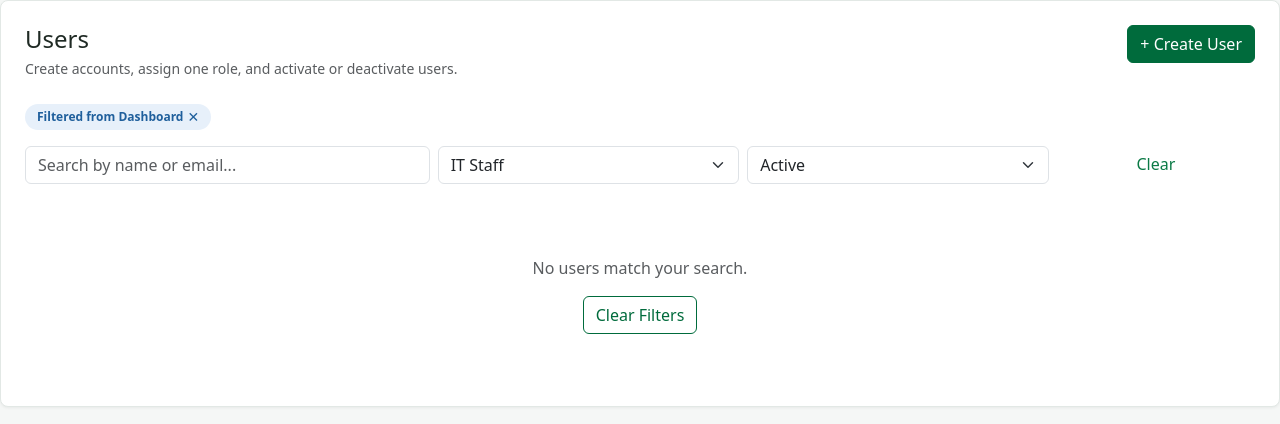
Drill-down filters (UI-05) › UI-05: User Management applies role and isActive from the URL and Clear removes them
The image size is (1280, 424).
expect the dropdown named "Filter by role" shows "IT Staff": met, box [438,146,739,184]
expect the dropdown named "Filter by account status" shows "Active": met, box [747,146,1049,184]
Click the button "Clear" at (1156, 164), box [1057,146,1255,182]
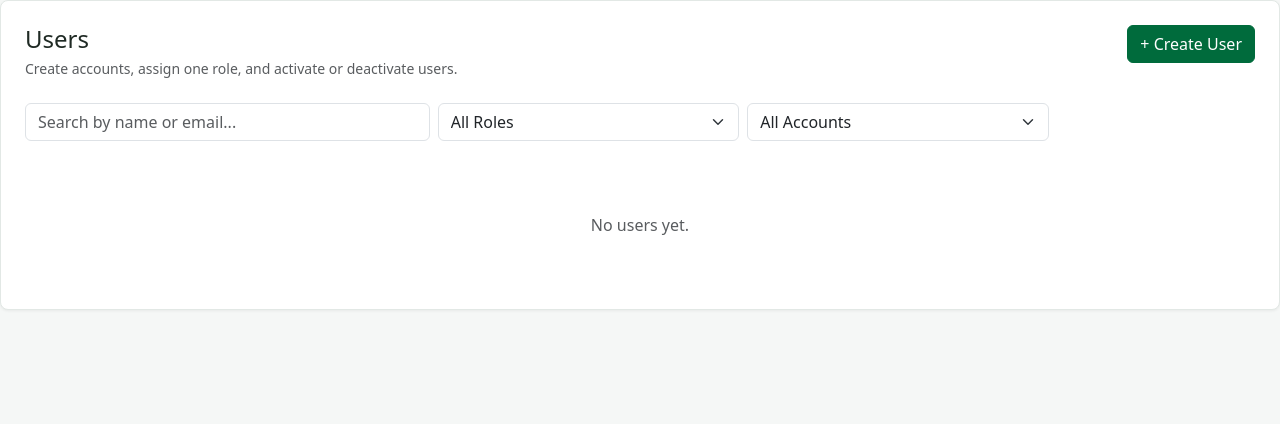
expect the text "Filtered from Dashboard" is gone: met
